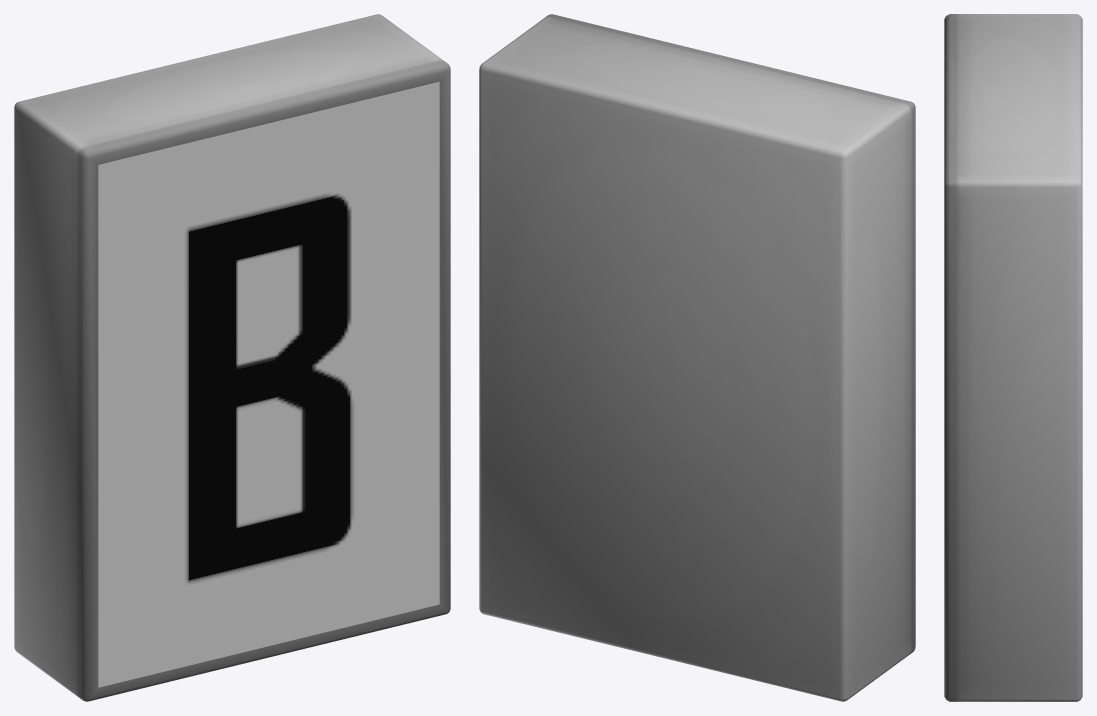
File: LettersLightBox01_B.FBX
3 views of the same model, side by side, from view 1: azimuth 30°, elevation 25°; view 2: azimuth 150°, elevation 25°; view 3: azimuth 270°, elevation 25° (orthographic). The views are drawn at different scales.
Parts seen in each view (by area): view 1: LettersLightBox01_B; view 2: LettersLightBox01_B; view 3: LettersLightBox01_B.
Boxes of the visible parts, x1,y1,x2,y2 form: LettersLightBox01_B: [14, 14, 450, 701]; LettersLightBox01_B: [479, 14, 915, 701]; LettersLightBox01_B: [944, 14, 1082, 701].
Size of what is drawn, in the model's own units: 0.35 by 0.5 by 0.12.
